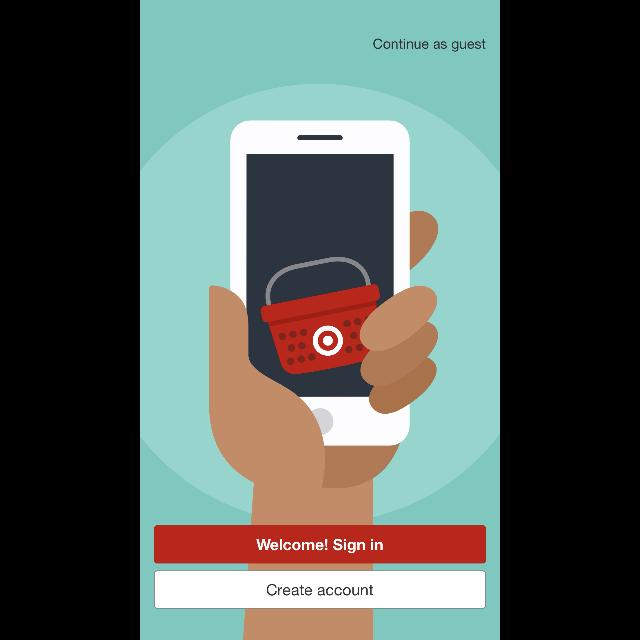backgroundimage: (140, 2, 500, 640)
text: (373, 38, 485, 52)
textbutton: (154, 570, 486, 608), (154, 525, 486, 563)
